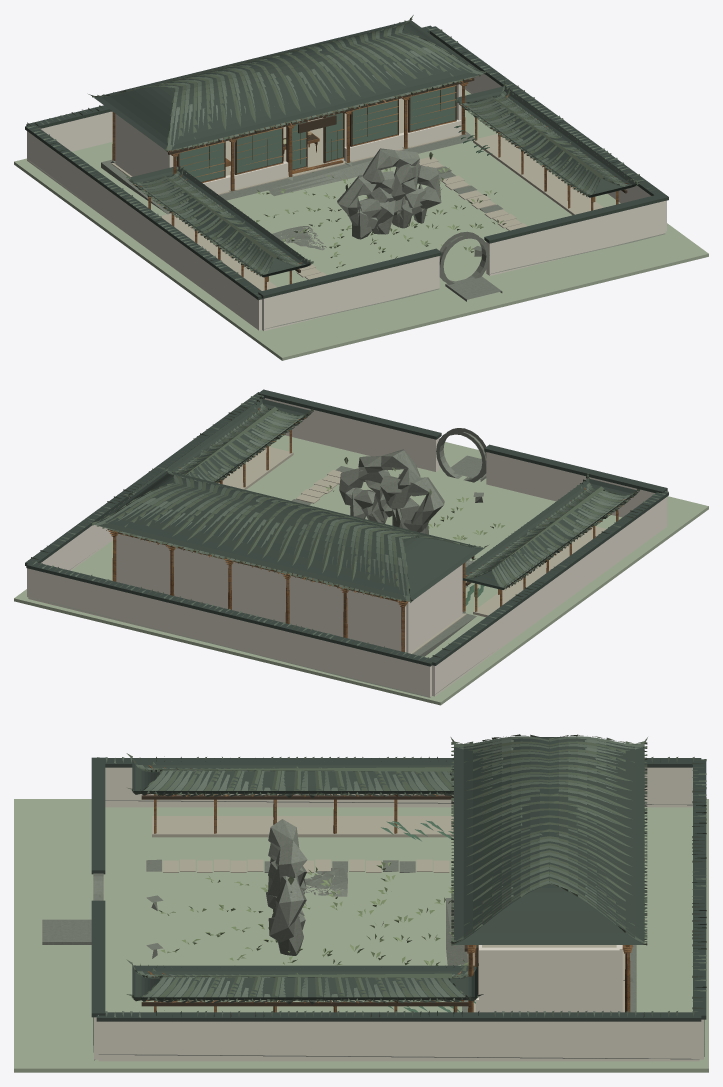
Rendered from public_models_places-low_hengwuyuan.glb.
3 views of the same model, one above another, from view 1: azimuth 30°, elevation 25°; view 2: azimuth 150°, elevation 25°; view 3: azimuth 270°, elevation 25° (orthographic). The views are drawn at different scales.
Visible parts, largest first — view 1: hengwuyuan_earth, hengwuyuan_roof, hengwuyuan_plaster, hengwuyuan_stone, hengwuyuan_tiledark, hengwuyuan_tile, hengwuyuan_screen, hengwuyuan_paving, hengwuyuan_wood, hengwuyuan_tilelight, hengwuyuan_darkwood, hengwuyuan_lightleaf (+1 smaller); view 2: hengwuyuan_plaster, hengwuyuan_roof, hengwuyuan_earth, hengwuyuan_tiledark, hengwuyuan_stone, hengwuyuan_tile, hengwuyuan_paving, hengwuyuan_wood, hengwuyuan_tilelight; view 3: hengwuyuan_earth, hengwuyuan_roof, hengwuyuan_plaster, hengwuyuan_tiledark, hengwuyuan_tile, hengwuyuan_stone, hengwuyuan_paving, hengwuyuan_tilelight, hengwuyuan_darkwood, hengwuyuan_wood, hengwuyuan_lightleaf, PolyHaven_coast_rocks_02.003.
Boxes of the visible parts, x1=… form: hengwuyuan_earth: x1=14, y1=89, x2=708, y2=360; hengwuyuan_roof: x1=25, y1=20, x2=668, y2=300; hengwuyuan_plaster: x1=27, y1=74, x2=666, y2=330; hengwuyuan_stone: x1=27, y1=87, x2=665, y2=329; hengwuyuan_tiledark: x1=88, y1=15, x2=642, y2=275; hengwuyuan_tile: x1=27, y1=20, x2=659, y2=296; hengwuyuan_screen: x1=176, y1=86, x2=455, y2=181; hengwuyuan_paving: x1=111, y1=98, x2=603, y2=290; hengwuyuan_wood: x1=111, y1=78, x2=628, y2=290; hengwuyuan_tilelight: x1=106, y1=25, x2=627, y2=274; hengwuyuan_darkwood: x1=168, y1=77, x2=627, y2=272; hengwuyuan_lightleaf: x1=256, y1=167, x2=506, y2=267; hengwuyuan_plaster: x1=27, y1=398, x2=666, y2=696; hengwuyuan_roof: x1=25, y1=389, x2=668, y2=666; hengwuyuan_earth: x1=14, y1=435, x2=708, y2=705; hengwuyuan_tiledark: x1=89, y1=394, x2=639, y2=602; hengwuyuan_stone: x1=29, y1=428, x2=488, y2=697; hengwuyuan_tile: x1=31, y1=392, x2=668, y2=663; hengwuyuan_paving: x1=218, y1=446, x2=606, y2=653; hengwuyuan_wood: x1=106, y1=407, x2=632, y2=652; hengwuyuan_tilelight: x1=105, y1=408, x2=635, y2=600; hengwuyuan_earth: x1=14, y1=799, x2=708, y2=1072; hengwuyuan_roof: x1=91, y1=737, x2=706, y2=1021; hengwuyuan_plaster: x1=94, y1=767, x2=703, y2=1061; hengwuyuan_tiledark: x1=126, y1=734, x2=647, y2=1002; hengwuyuan_tile: x1=97, y1=736, x2=706, y2=1017; hengwuyuan_stone: x1=42, y1=800, x2=704, y2=1060; hengwuyuan_paving: x1=152, y1=816, x2=625, y2=1012; hengwuyuan_tilelight: x1=141, y1=739, x2=640, y2=1004; hengwuyuan_darkwood: x1=141, y1=795, x2=478, y2=1006; hengwuyuan_wood: x1=146, y1=765, x2=644, y2=1012; hengwuyuan_lightleaf: x1=158, y1=861, x2=468, y2=965; PolyHaven_coast_rocks_02.003: x1=304, y1=867, x2=347, y2=896.
Size of the model in its own units: 34 by 8.09 by 37.
18 materials, 2 textured.
